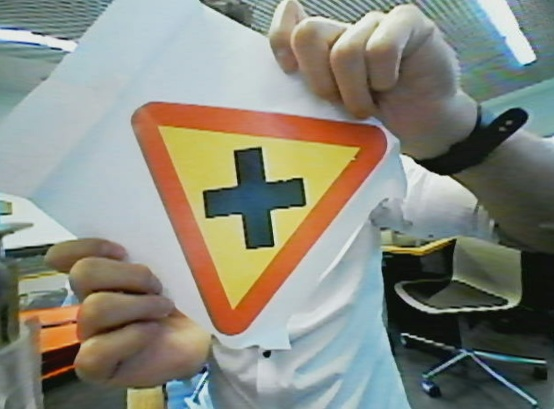junction: (129, 93, 411, 337)
